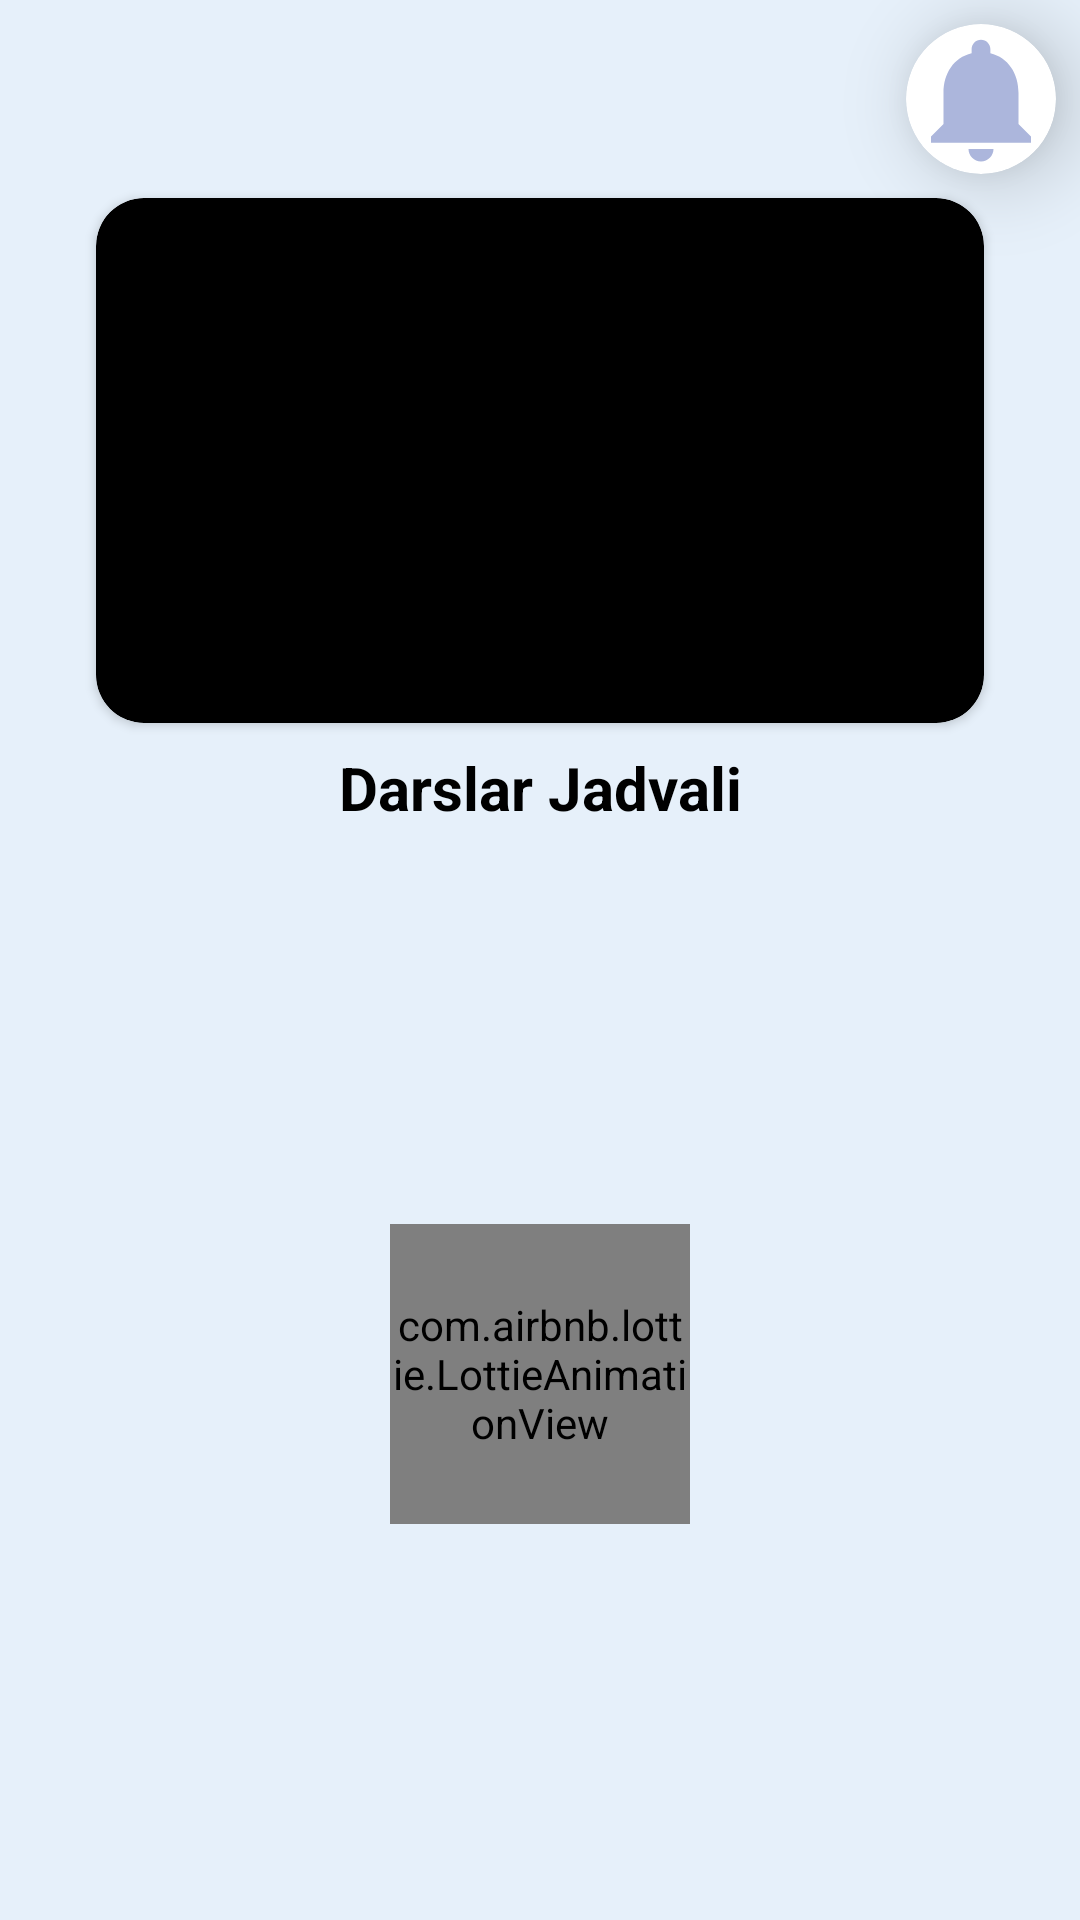

Named icons in this screenshot (1080px×1920px) and their centers, (x,y):
notifications: (981,99)
